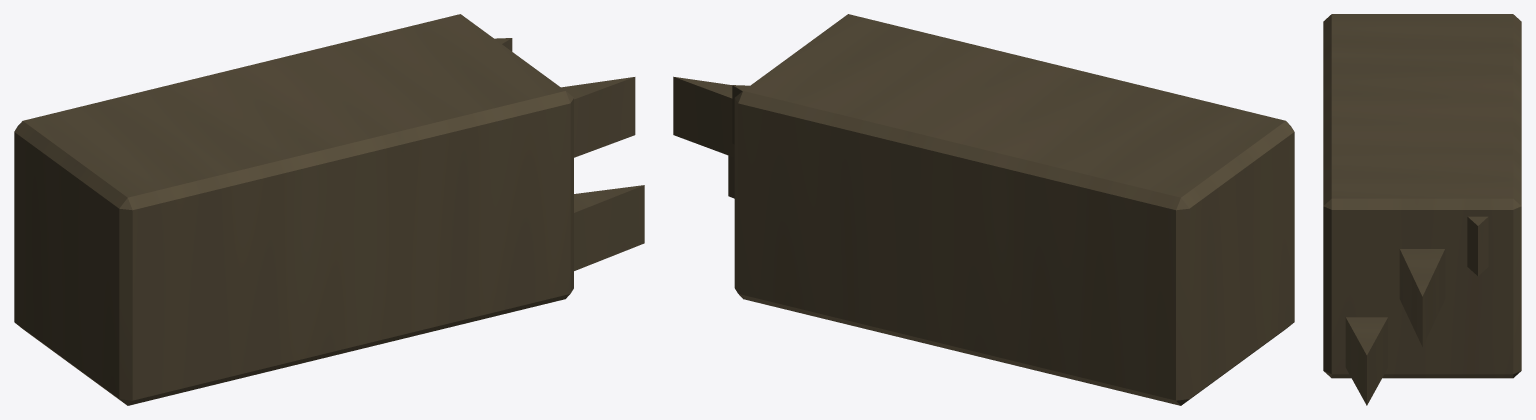
The model's file is WarrensC_WVC080_BrokenBeamEnd_Mars_SM.fbx.
3 renders of one model, left to right at view 1: azimuth 30°, elevation 25°; view 2: azimuth 150°, elevation 25°; view 3: azimuth 270°, elevation 25°, orthographic. The views are drawn at different scales.
Parts seen in each view (by area): view 1: WarrensC_WVC080_BrokenBeamEnd_Mars_SM.001; view 2: WarrensC_WVC080_BrokenBeamEnd_Mars_SM.001; view 3: WarrensC_WVC080_BrokenBeamEnd_Mars_SM.001.
Boxes of the visible parts, left/top/right/bottom form: WarrensC_WVC080_BrokenBeamEnd_Mars_SM.001: left=14, top=14, right=644, bottom=405; WarrensC_WVC080_BrokenBeamEnd_Mars_SM.001: left=673, top=14, right=1294, bottom=405; WarrensC_WVC080_BrokenBeamEnd_Mars_SM.001: left=1323, top=14, right=1521, bottom=405.
Bounding box in the file's own units: 100 × 35 × 35.
